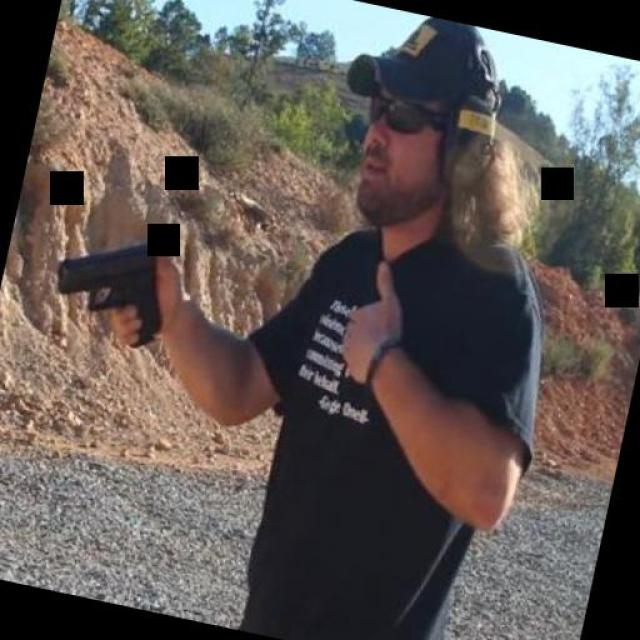gun: (39, 214, 180, 350)
